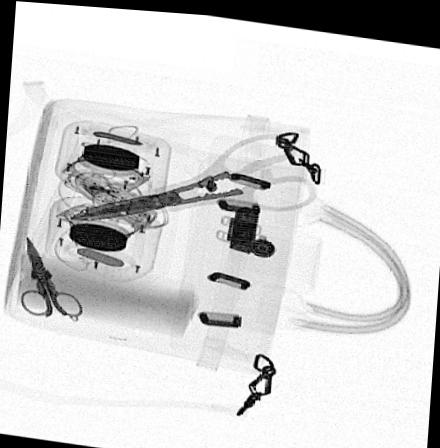Scissors: (68, 126, 317, 218), (20, 234, 83, 320)
